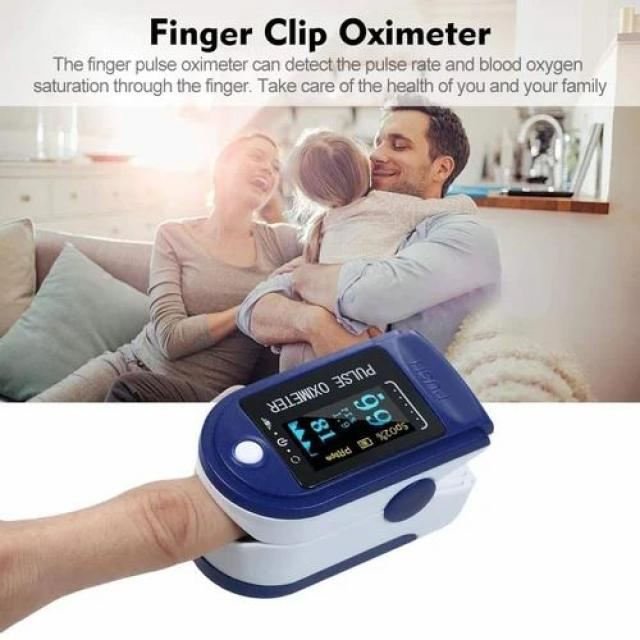oximeter: (183, 316, 497, 607)
